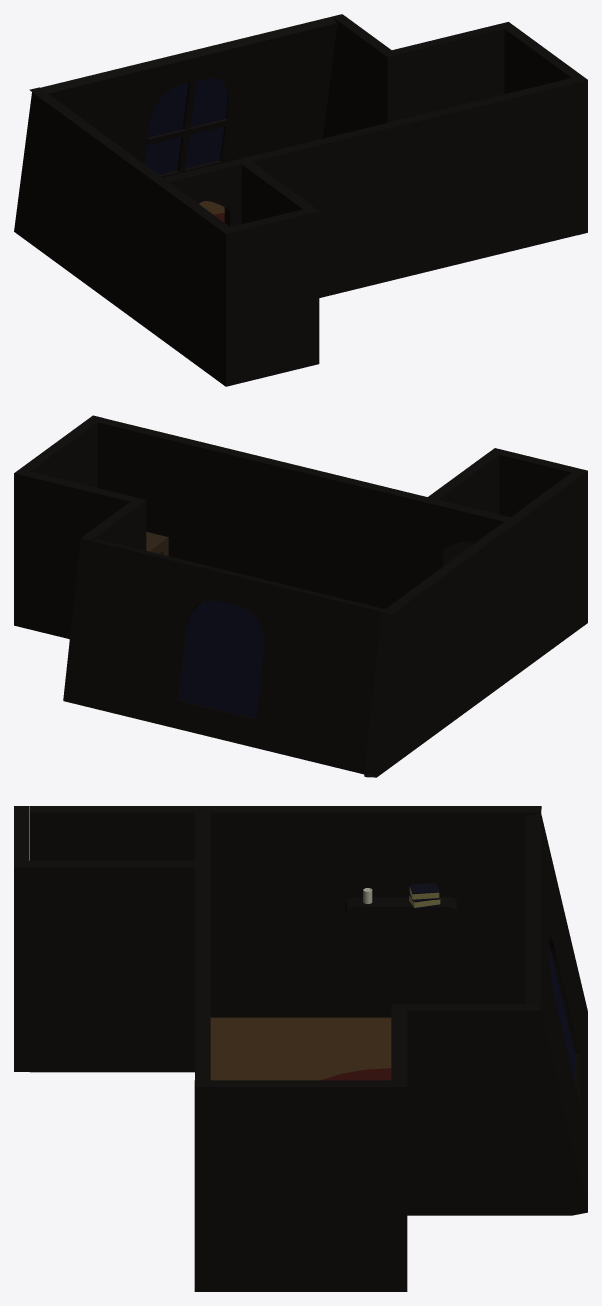
Rendered from L_Winning_ISD1_HauntedHouseRoomNew 1.fbx.
The picture shows the model from 3 angles, top to bottom: view 1: azimuth 30°, elevation 25°; view 2: azimuth 150°, elevation 25°; view 3: azimuth 270°, elevation 25°; orthographic projection. The views are drawn at different scales.
Visible parts, largest first — view 1: wall 2, wall 7, wall 6, wall 8, wall 4, wall 5, window, wall 3, archway, wall 1, window frame 1, window frame 2; view 2: wall 6, wall 2, wall 7, wall 4, window, wall 8, wall 1, wall 3, archway, wall 5; view 3: wall 7, wall 3, wall 1, wall 5, wall 6, room floor 1, wall 4, wall 8, wall 2, shelf, window, archway (+1 smaller).
Boxes of the visible parts, left/top/right/bottom form: wall 2: left=246, top=78, right=577, bottom=297; wall 7: left=14, top=87, right=229, bottom=381; wall 6: left=40, top=14, right=339, bottom=177; wall 8: left=220, top=207, right=319, bottom=386; wall 4: left=381, top=22, right=513, bottom=123; wall 5: left=322, top=14, right=391, bottom=138; window: left=144, top=78, right=227, bottom=174; wall 3: left=504, top=26, right=587, bottom=234; archway: left=163, top=160, right=241, bottom=226; wall 1: left=236, top=157, right=312, bottom=223; window frame 1: left=177, top=80, right=196, bottom=172; window frame 2: left=147, top=118, right=227, bottom=144; wall 6: left=63, top=538, right=384, bottom=774; wall 2: left=97, top=418, right=427, bottom=608; wall 7: left=364, top=472, right=581, bottom=777; wall 4: left=14, top=469, right=146, bottom=639; window: left=179, top=600, right=263, bottom=718; wall 8: left=489, top=448, right=587, bottom=626; wall 1: left=421, top=452, right=499, bottom=581; wall 3: left=20, top=415, right=102, bottom=487; archway: left=432, top=499, right=509, bottom=574; wall 5: left=81, top=501, right=140, bottom=549; wall 7: left=30, top=806, right=587, bottom=1017; wall 3: left=194, top=1080, right=391, bottom=1291; wall 1: left=29, top=860, right=210, bottom=1072; wall 5: left=407, top=1004, right=572, bottom=1215; wall 6: left=525, top=813, right=587, bottom=1215; room floor 1: left=210, top=1017, right=391, bottom=1080; wall 4: left=391, top=1004, right=407, bottom=1291; wall 8: left=14, top=806, right=29, bottom=1071; wall 2: left=195, top=867, right=210, bottom=1080; shelf: left=345, top=897, right=457, bottom=915; window: left=548, top=944, right=575, bottom=1084; archway: left=195, top=812, right=210, bottom=860.
Size of the model in its own units: 1469 by 500 by 1269.
